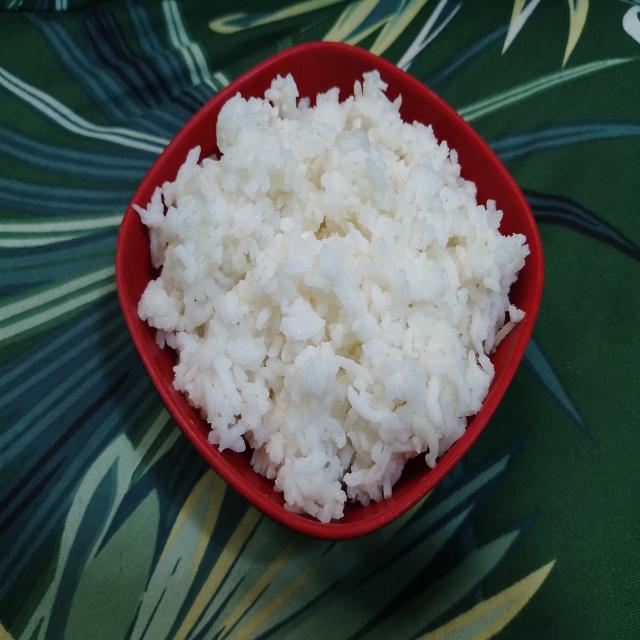Chicken -Chicken Inasal-: (162, 73, 508, 513)
